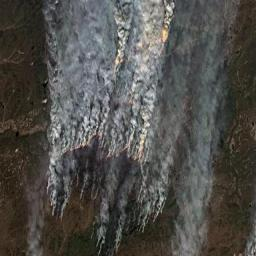Low smoke: (25, 0, 256, 254)
